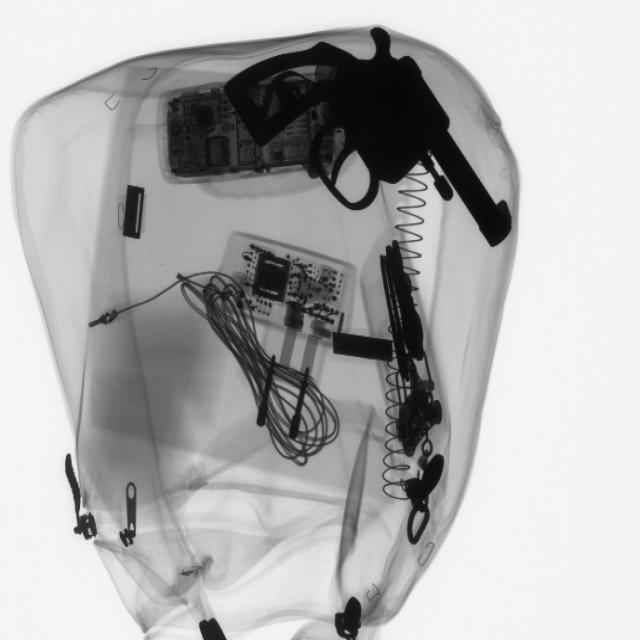GUN: (231, 27, 525, 254)
